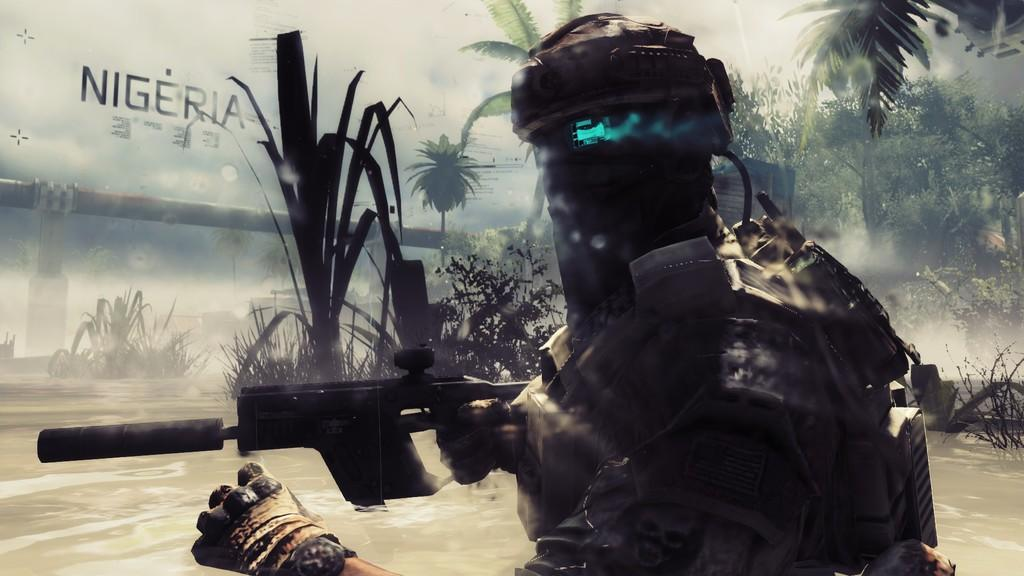non-violence: (192, 12, 960, 576)
weapon: (34, 336, 535, 512)
